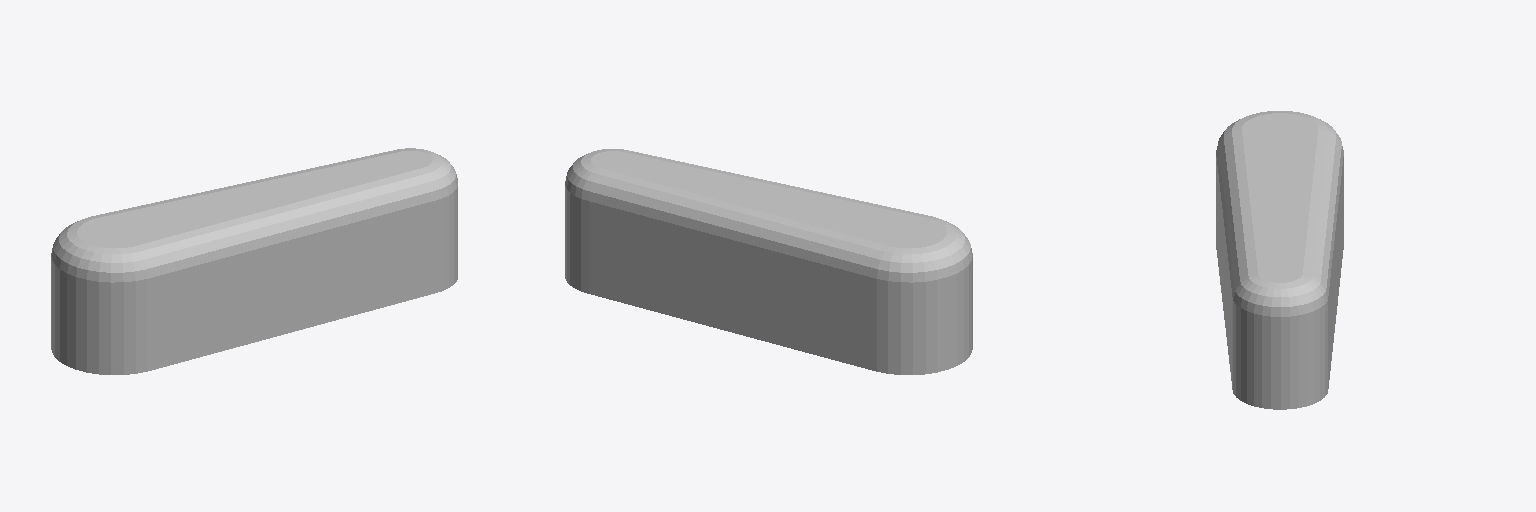
File: paddle.obj
3 views of the same model, side by side, from view 1: azimuth 30°, elevation 25°; view 2: azimuth 150°, elevation 25°; view 3: azimuth 270°, elevation 25° (orthographic).
Parts seen in each view (by area): view 1: LeftPaddle_Cylinder.005; view 2: LeftPaddle_Cylinder.005; view 3: LeftPaddle_Cylinder.005.
Boxes of the visible parts, x1=… form: LeftPaddle_Cylinder.005: x1=51, y1=148, x2=457, y2=374; LeftPaddle_Cylinder.005: x1=565, y1=149, x2=972, y2=374; LeftPaddle_Cylinder.005: x1=1216, y1=111, x2=1343, y2=409.
Bounding box in the file's own units: 2.16 × 0.6092 × 0.6092.